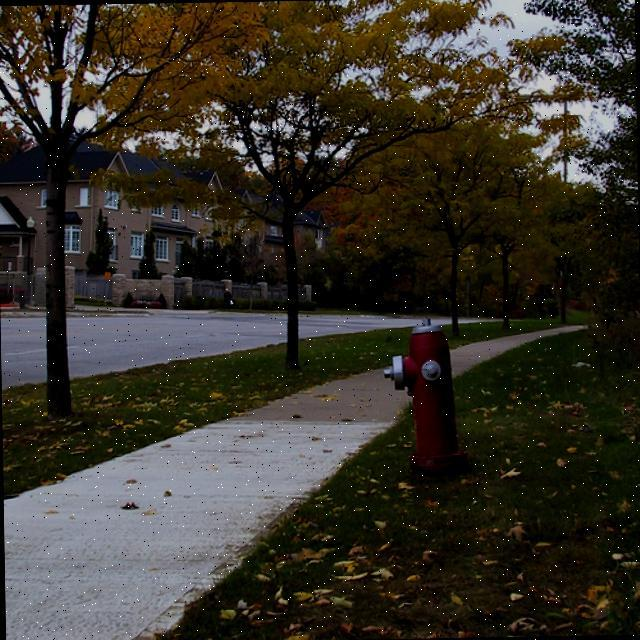fire_hydrant: (382, 314, 472, 474)
